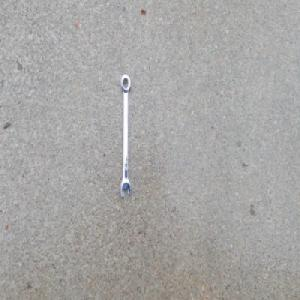Wrench: (119, 72, 131, 199)
